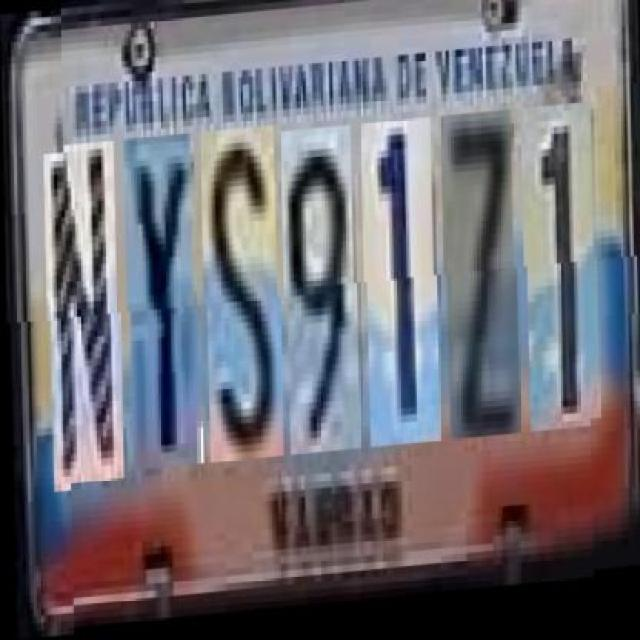1: (522, 113, 600, 442), (363, 126, 439, 454)
9: (283, 132, 359, 460)
n: (46, 142, 122, 486)
s: (202, 130, 282, 467)
y: (126, 136, 202, 473)
z: (442, 120, 520, 448)
